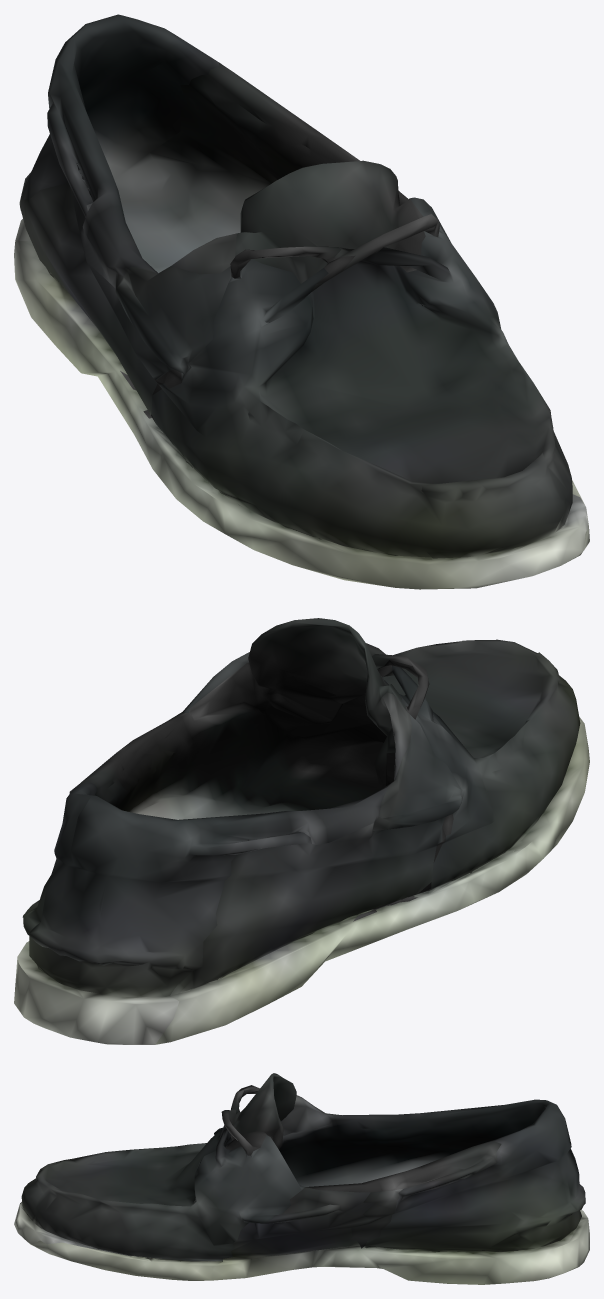
File: Mens_Mako_Canoe_Moc_2Eye_Boat_Shoe_in_Coffee_K9e8FoV73uZ-medium.glb
3 views of the same model, one above another, from view 1: azimuth 30°, elevation 25°; view 2: azimuth 150°, elevation 25°; view 3: azimuth 270°, elevation 25° (orthographic). The views are drawn at different scales.
Parts seen in each view (by area): view 1: Mens_Mako_Canoe_Moc_2Eye_Boat_Shoe_in_Coffee_K9e8FoV73uZ; view 2: Mens_Mako_Canoe_Moc_2Eye_Boat_Shoe_in_Coffee_K9e8FoV73uZ; view 3: Mens_Mako_Canoe_Moc_2Eye_Boat_Shoe_in_Coffee_K9e8FoV73uZ.
Part boxes in pixels (box(x1,y1,x2,y2)): Mens_Mako_Canoe_Moc_2Eye_Boat_Shoe_in_Coffee_K9e8FoV73uZ: box(14, 14, 589, 589); Mens_Mako_Canoe_Moc_2Eye_Boat_Shoe_in_Coffee_K9e8FoV73uZ: box(14, 618, 589, 1044); Mens_Mako_Canoe_Moc_2Eye_Boat_Shoe_in_Coffee_K9e8FoV73uZ: box(14, 1073, 589, 1284).
Size of the model in its own units: 0.1111 by 0.0949 by 0.2869.
Materials: 1 (1 with a texture image).
